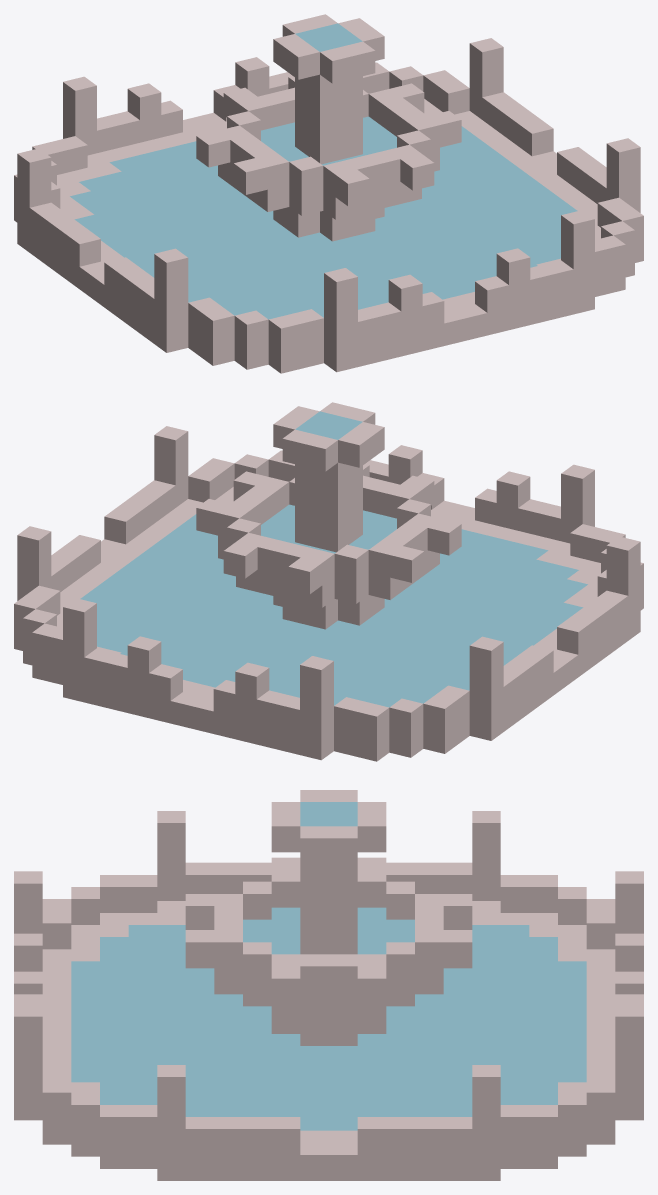
The model's file is fountain3.glb.
3 renders of one model, top to bottom at view 1: azimuth 30°, elevation 25°; view 2: azimuth 150°, elevation 25°; view 3: azimuth 270°, elevation 25°, orthographic. The views are drawn at different scales.
Parts seen in each view (by area): view 1: fountain3.001; view 2: fountain3.001; view 3: fountain3.001.
Part boxes in pixels (<box>): fountain3.001: <box>14,14,643,373</box>; fountain3.001: <box>14,402,643,761</box>; fountain3.001: <box>14,790,643,1180</box>.
Size of the model in its own units: 2.2 by 0.9 by 2.2.
1 material, 1 textured.
